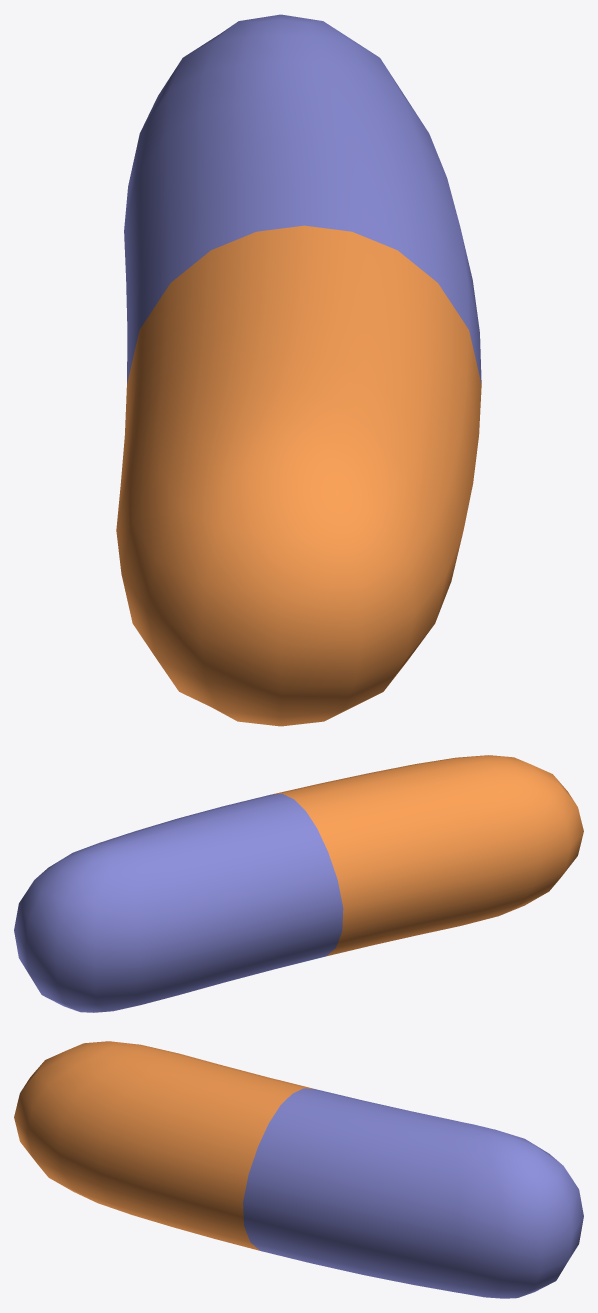
Rendered from Gummy_B_02.fbx.
The picture shows the model from 3 angles, top to bottom: view 1: azimuth 30°, elevation 25°; view 2: azimuth 150°, elevation 25°; view 3: azimuth 270°, elevation 25°; orthographic projection. The views are drawn at different scales.
Parts seen in each view (by area): view 1: Gummy_B_02_LOD0; view 2: Gummy_B_02_LOD0; view 3: Gummy_B_02_LOD0.
Boxes of the visible parts, box(x1,y1,x2,y2) form: Gummy_B_02_LOD0: box(116, 14, 481, 726); Gummy_B_02_LOD0: box(14, 755, 583, 1012); Gummy_B_02_LOD0: box(14, 1041, 583, 1298).
Size of what is drawn, in the model's own units: 411 by 185 by 601.
